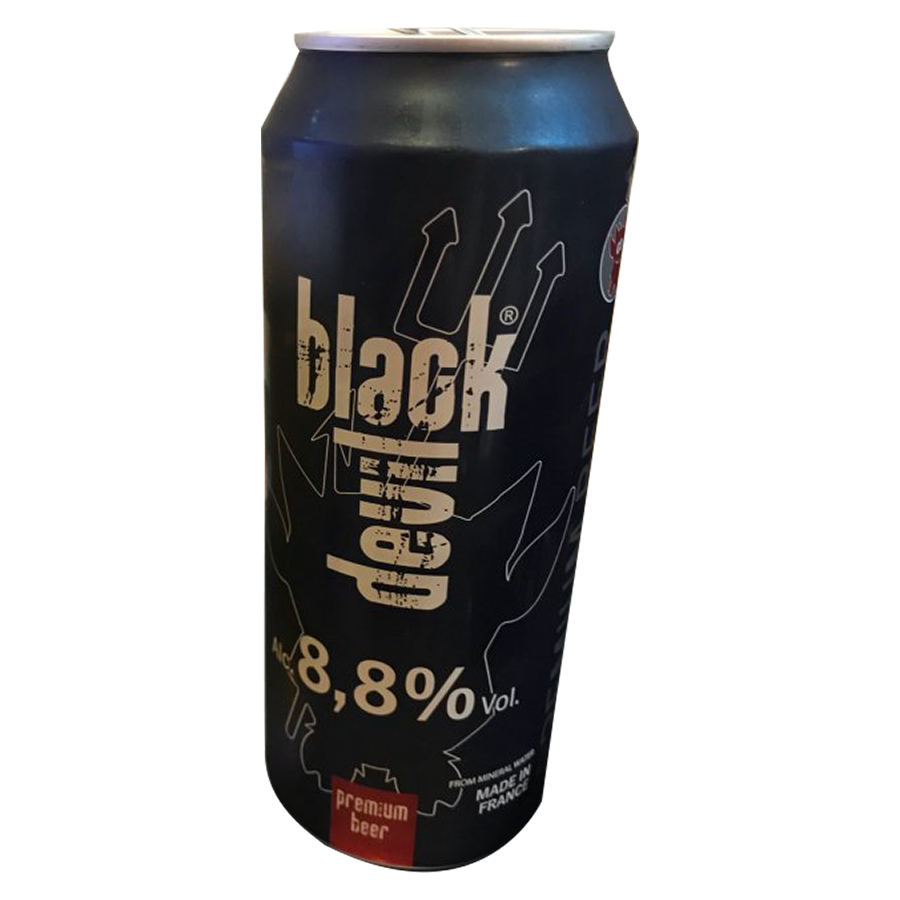beer can: (258, 27, 643, 877)
